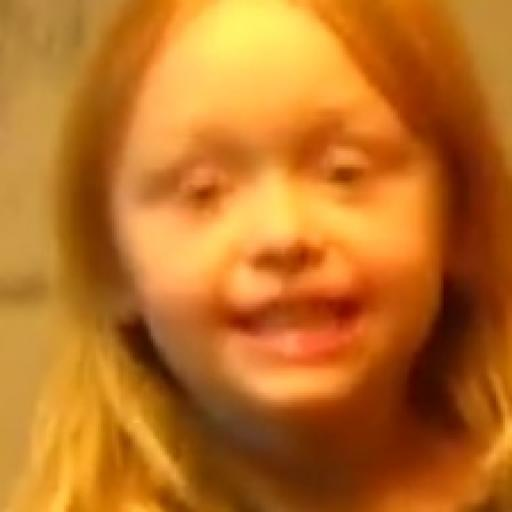Autism: (40, 7, 469, 468)
